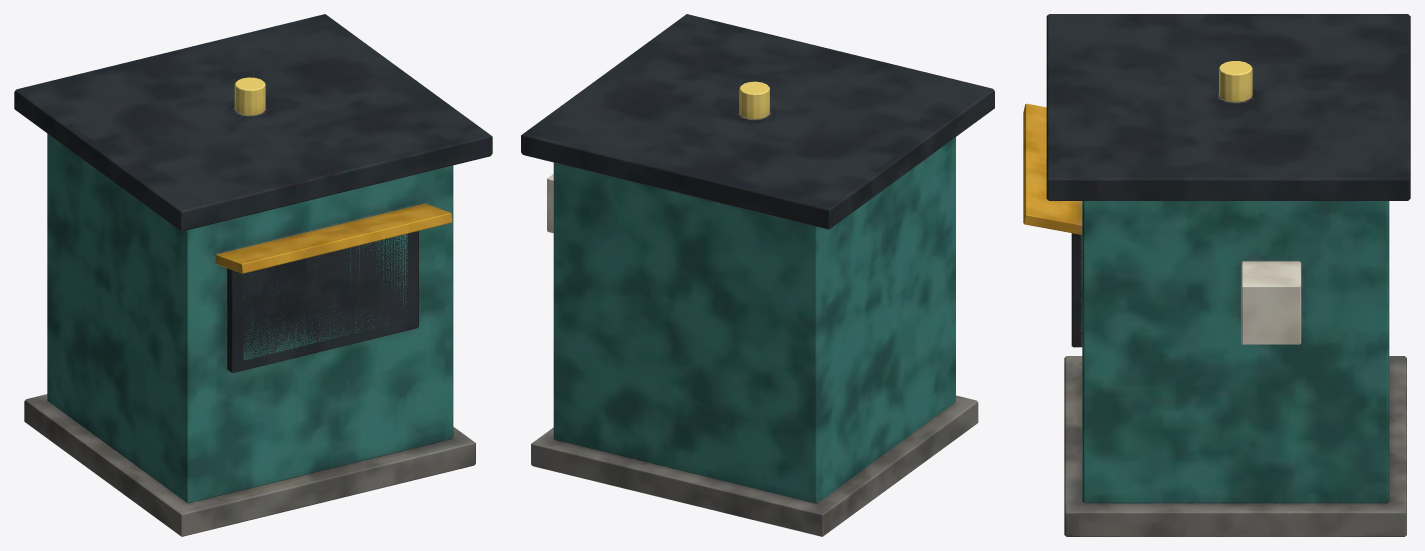
Rendered from control_booth.glb.
The picture shows the model from 3 angles, left to right: view 1: azimuth 30°, elevation 25°; view 2: azimuth 150°, elevation 25°; view 3: azimuth 270°, elevation 25°; orthographic projection. The views are drawn at different scales.
Parts seen in each view (by area): view 1: ControlBooth; view 2: ControlBooth; view 3: ControlBooth.
Part boxes in pixels (left/top/right/bottom): ControlBooth: left=14, top=14, right=492, bottom=536; ControlBooth: left=521, top=14, right=994, bottom=536; ControlBooth: left=1023, top=14, right=1410, bottom=536.
Bounding box in the file's own units: 2.96 × 3.03 × 2.71.
Materials: 1 (1 with a texture image).
